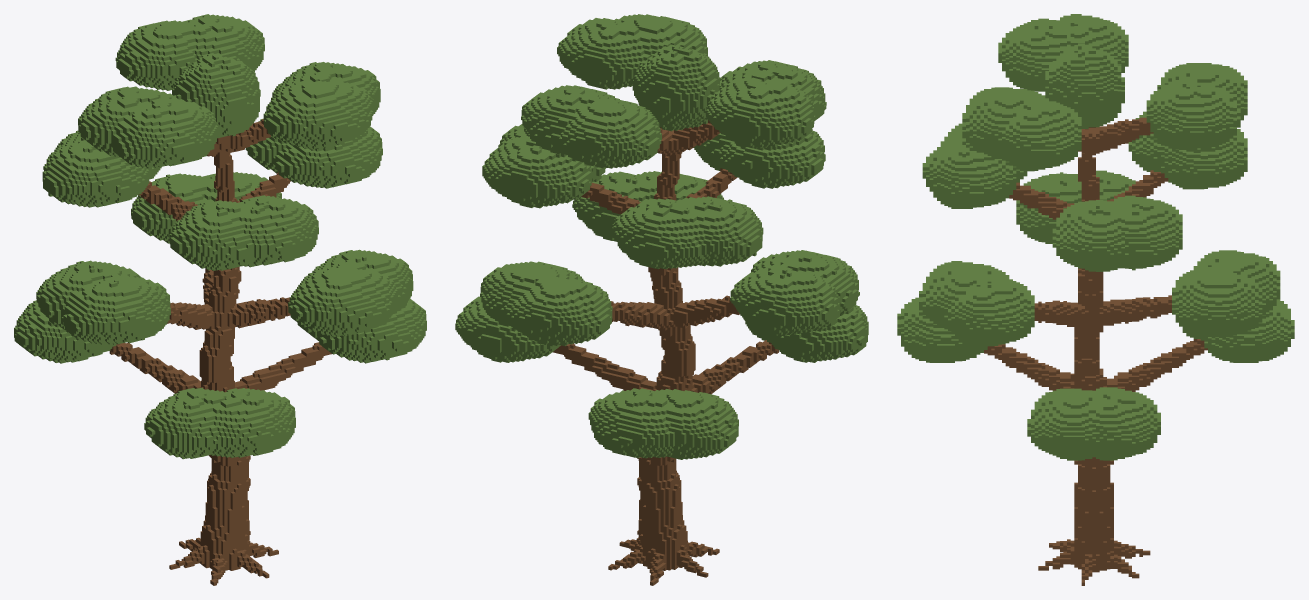
Rendered from visual-far.glb.
3 renders of one model, left to right at view 1: azimuth 30°, elevation 25°; view 2: azimuth 150°, elevation 25°; view 3: azimuth 270°, elevation 25°, orthographic.
Visible parts, largest first — view 1: 既有乔木色阶与高度族; view 2: 既有乔木色阶与高度族; view 3: 既有乔木色阶与高度族.
Part boxes in pixels (bbox=[...]): 既有乔木色阶与高度族: bbox=[14, 14, 426, 585]; 既有乔木色阶与高度族: bbox=[455, 14, 868, 585]; 既有乔木色阶与高度族: bbox=[897, 14, 1294, 585].
Bounding box in the file's own units: 23 × 31 × 22.
Materials: 3 (3 with a texture image).
